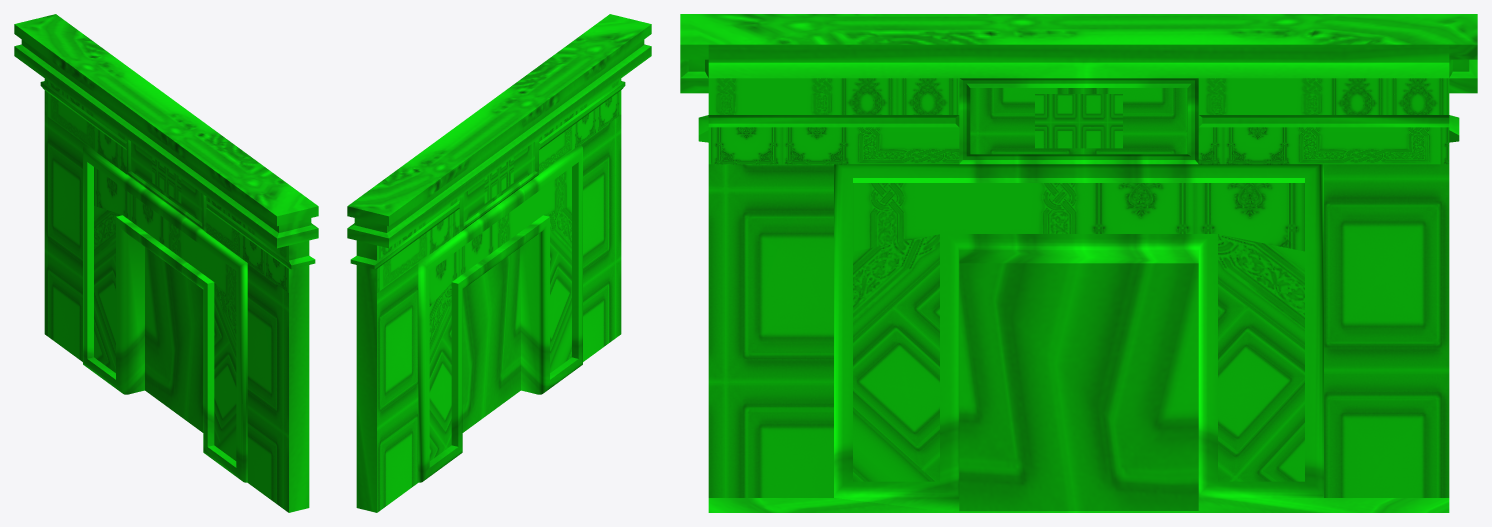
3 renders of one model, left to right at view 1: azimuth 30°, elevation 25°; view 2: azimuth 150°, elevation 25°; view 3: azimuth 270°, elevation 25°, orthographic. The views are drawn at different scales.
Parts seen in each view (by area): view 1: Box059; view 2: Box059; view 3: Box059.
Boxes of the visible parts, box(x1,y1,x2,y2) form: Box059: box(14, 14, 318, 512); Box059: box(347, 14, 651, 512); Box059: box(680, 14, 1477, 512).
Bounding box in the file's own units: 12.04 × 80 × 123.
